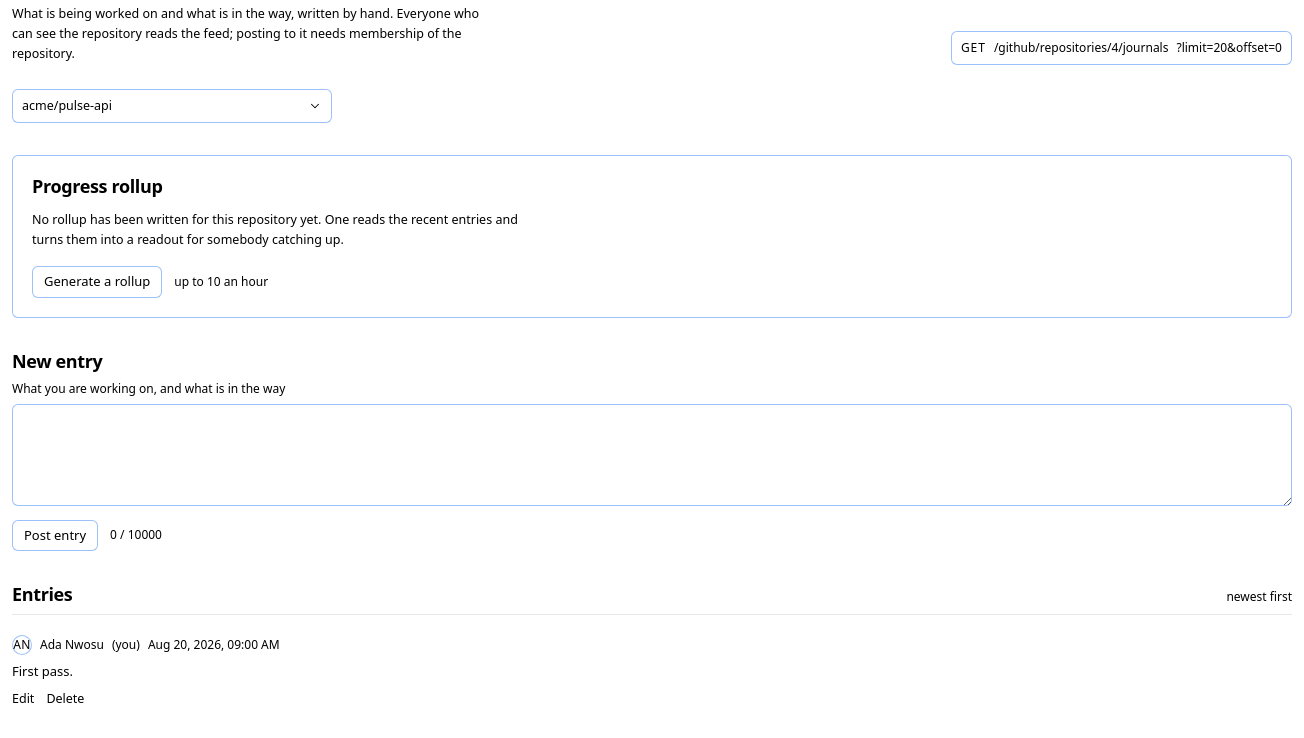
it: /journal · your own entries › marks an entry as edited once it has been
This screenshot has width=1304, height=738.
Click the button with test id "entry-edit". click: {"x": 23, "y": 700}
box: [12, 690, 34, 709]
(page scrolled)
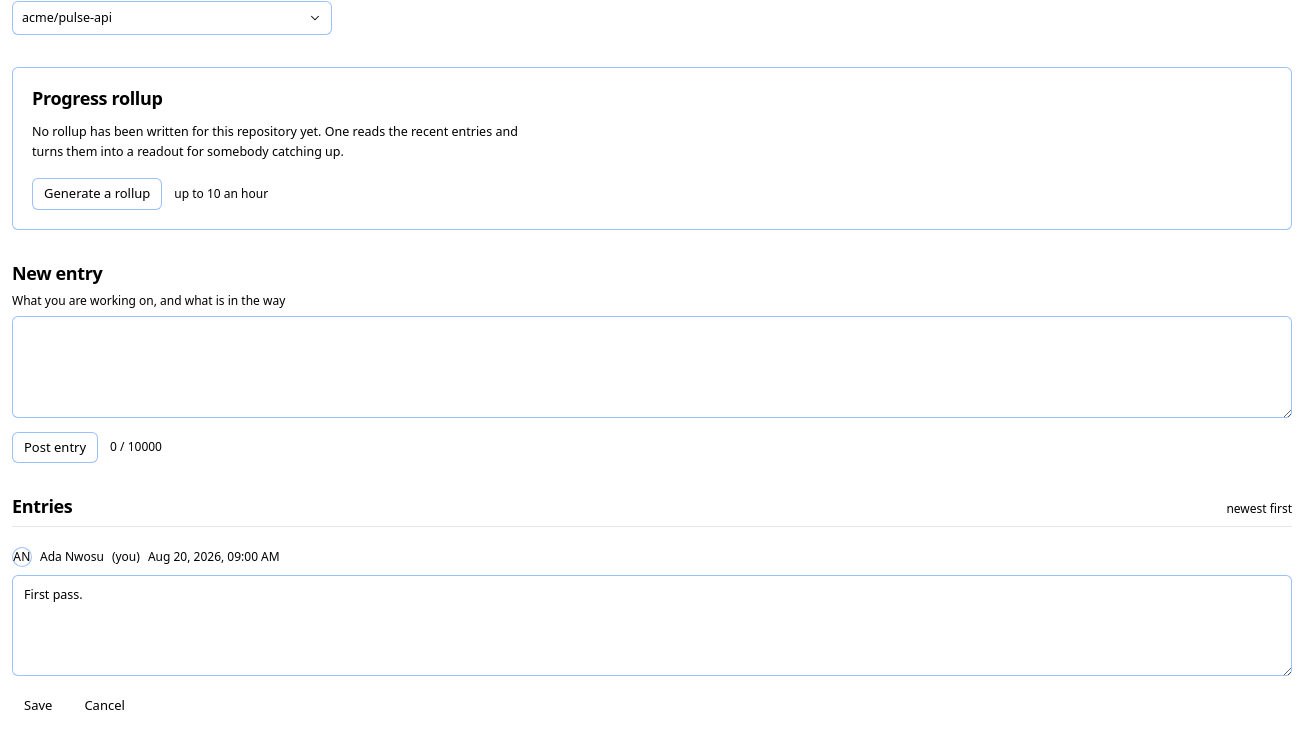
Replace the text in the text box with test id "entry-editor" with "Second pass.". click: {"x": 652, "y": 626}
box: [12, 575, 1292, 676]
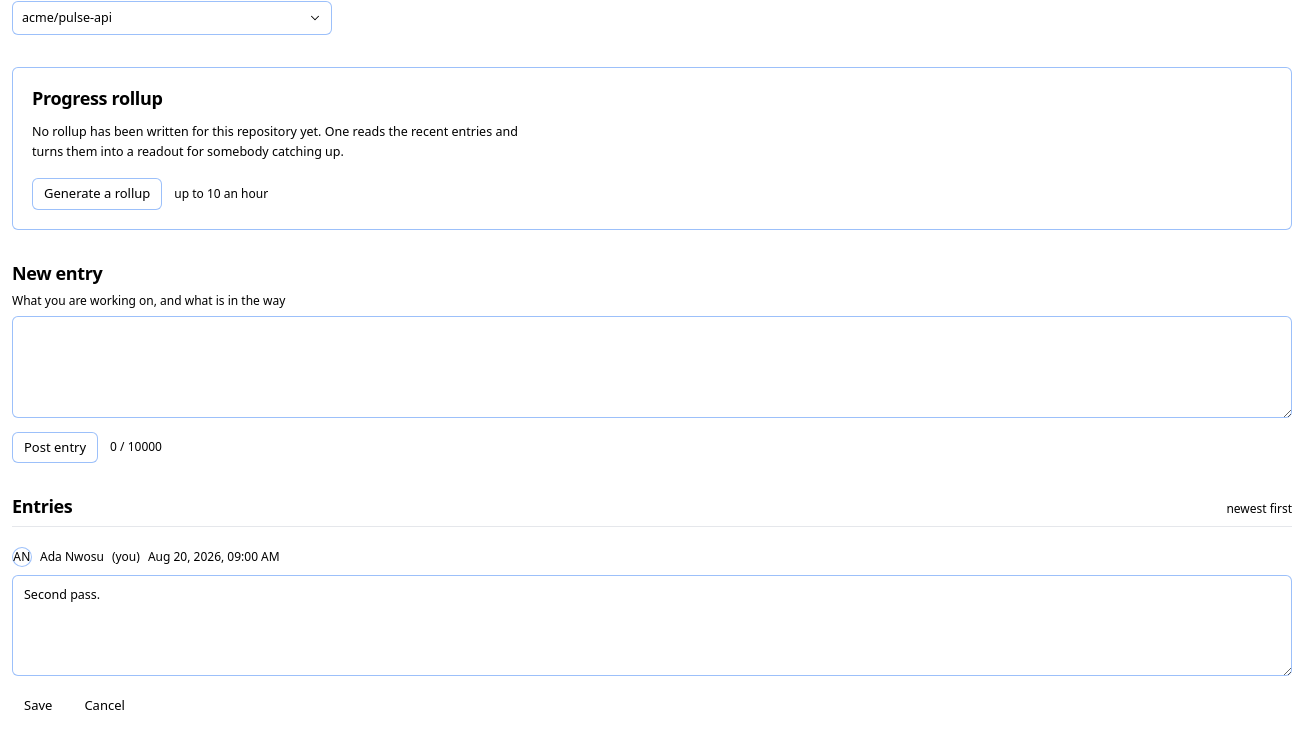
Click the button with test id "entry-save". click: {"x": 38, "y": 706}
box: [12, 690, 64, 722]
(page scrolled)
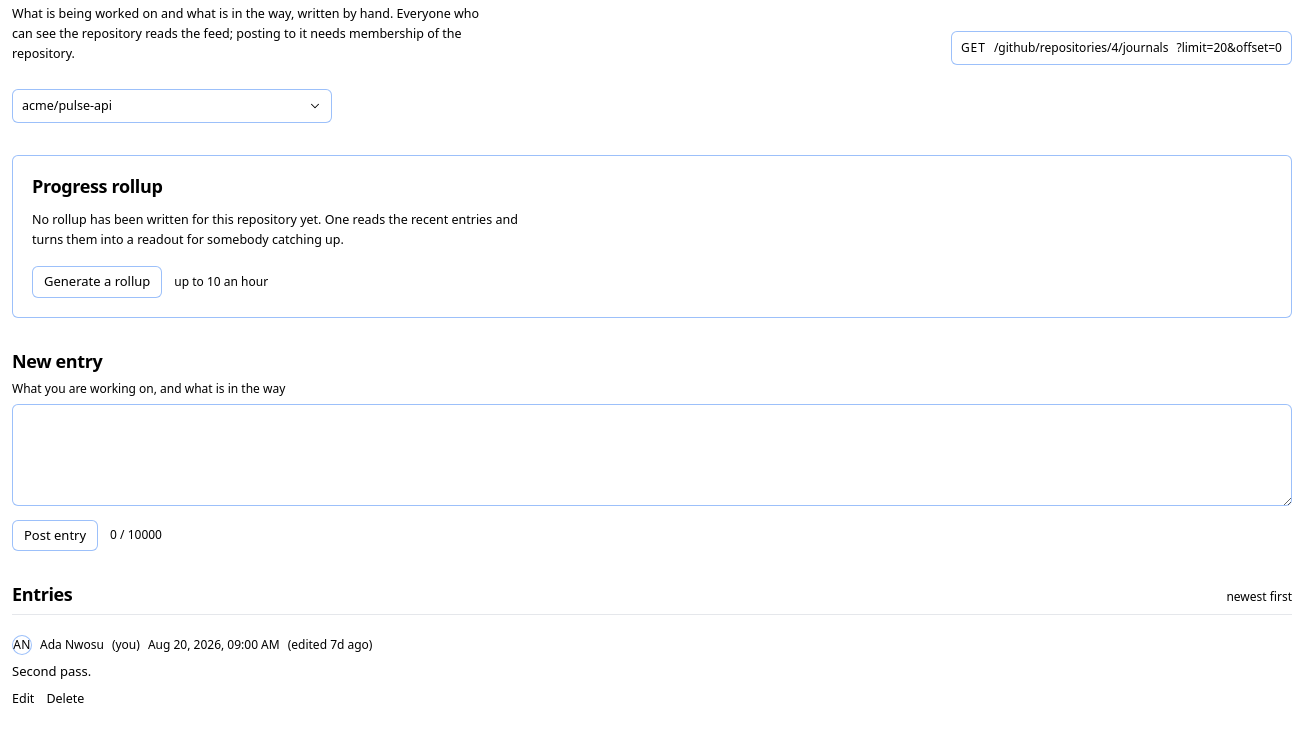
Check: the text with test id "edited" shows "edited", box [288, 636, 372, 653]
